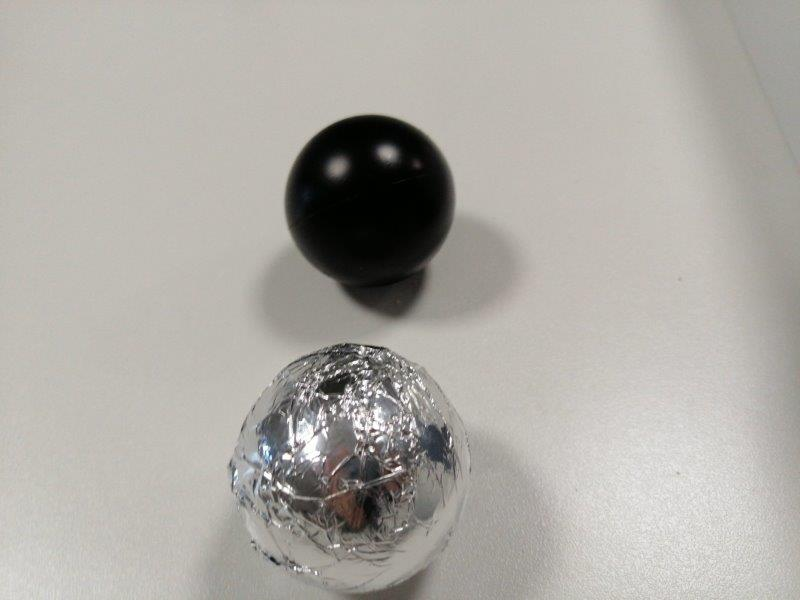bianca: (228, 343, 472, 590)
nera: (280, 113, 456, 285)
